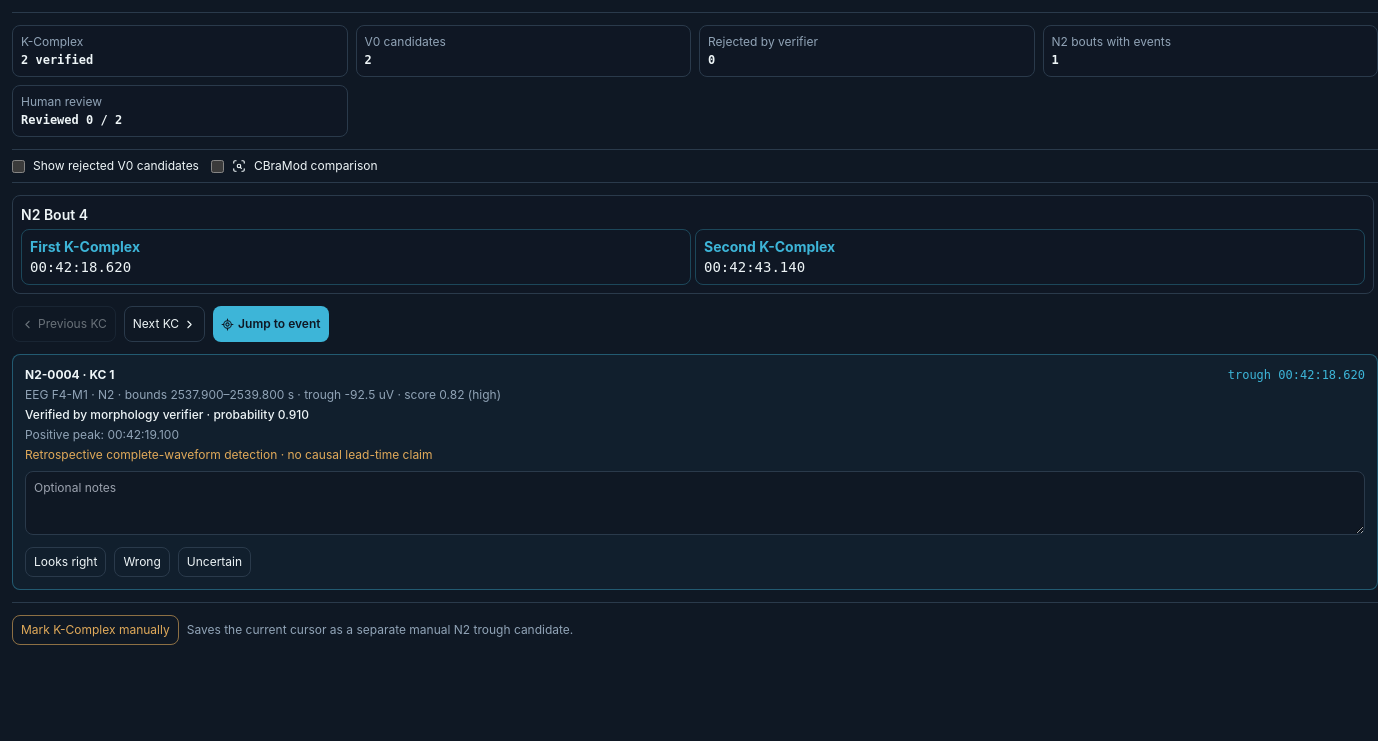
uses morphology B1 by default, keeps CBraMod advanced, and preserves the trough
Check: the text "2 verified" is shown, box [21,53,93,67]
Check: the text "Verified by morphology verifier · probability 0.910" is shown, box [25,407,309,422]
Click the checkbox labelled "CBraMod comparison": (218, 166) [211,160,224,172]
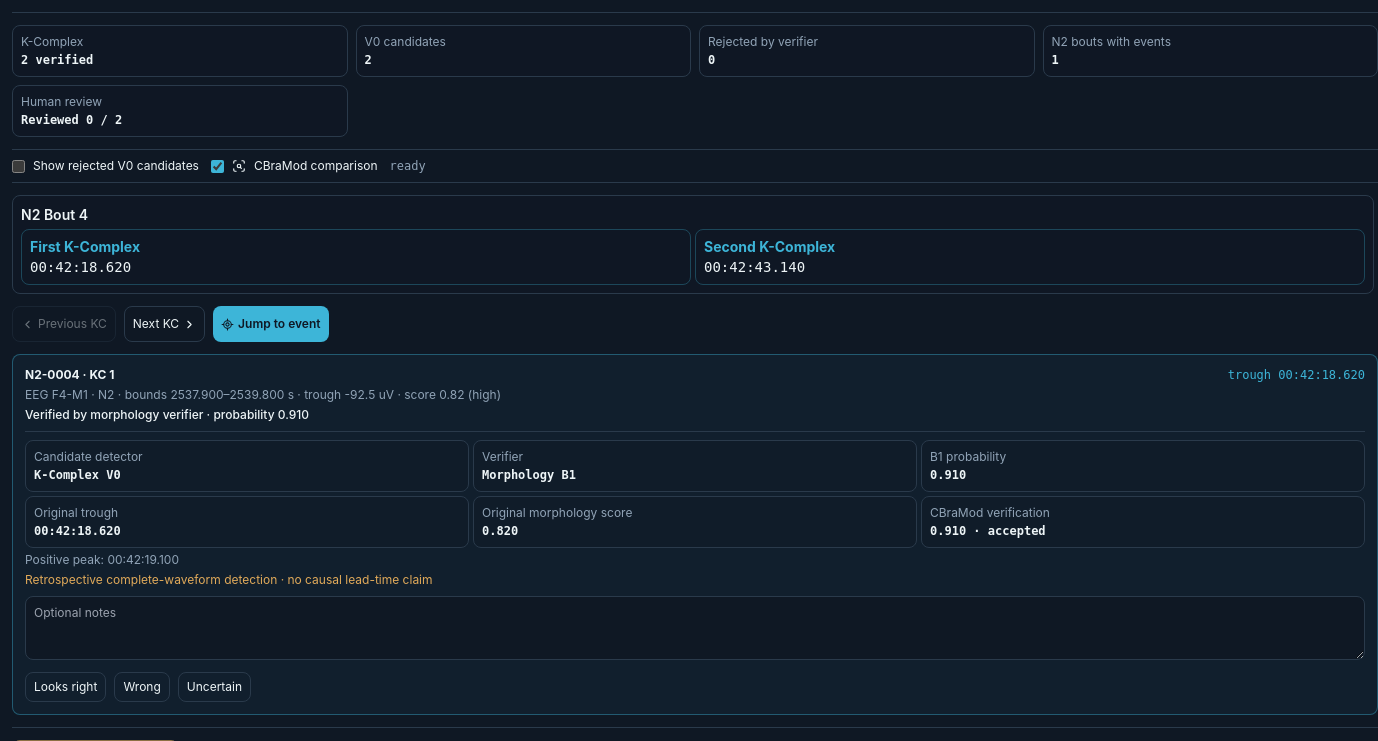
Check: the text "00:42:18.620" is shown 2 times, box [30,259,131,275]; [34,524,121,538]
Check: the text "CBraMod verification" is shown, box [930,505,1050,520]
Check: the text "0.910 · accepted" is shown, box [930,524,1046,538]
